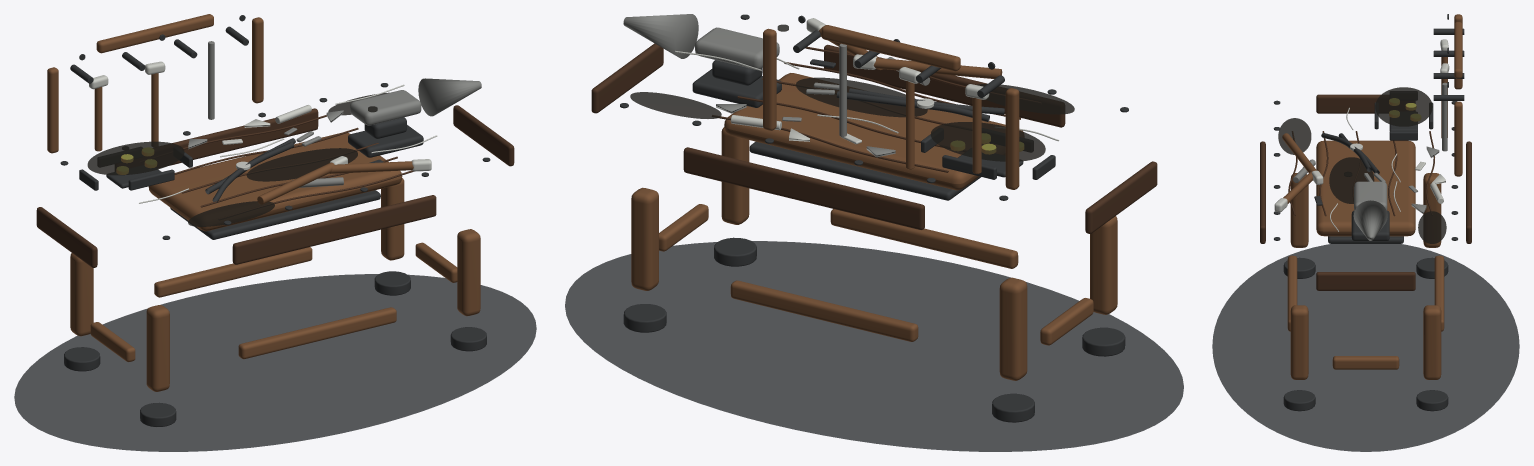
Rendered from blacksmith-forge-workbench.glb.
3 renders of one model, left to right at view 1: azimuth 30°, elevation 25°; view 2: azimuth 150°, elevation 25°; view 3: azimuth 270°, elevation 25°, orthographic. The views are drawn at different scales.
Parts seen in each view (by area): view 1: BASE_BakedSoftContactShadow, PROP_ForgeBench_Tabletop_DarkWoodSlab, PROP_ForgeBench_FrontEndgrainBand, PROP_ForgeBench_BackEndgrainBand, PROP_ForgeBench_FrontLowerRail_DarkWood, PROP_ForgeBench_BackLowerRail_DarkWood, PROP_ForgeBench_EmberTray_SootHalo, PROP_ForgeBench_Tabletop_SootSmudge_2, PROP_ForgeBench_FrontRight_ChunkyWoodLeg, PROP_ForgeBench_FrontLeft_ChunkyWoodLeg, PROP_ForgeBench_Underside_BlackIronBrace, PROP_ForgeBench_BackLeft_ChunkyWoodLeg (+25 smaller); view 2: BASE_BakedSoftContactShadow, PROP_ForgeBench_Tabletop_DarkWoodSlab, PROP_ForgeBench_BackEndgrainBand, PROP_ForgeBench_BackLowerRail_DarkWood, PROP_ForgeBench_FrontEndgrainBand, PROP_ForgeBench_FrontLowerRail_DarkWood, PROP_ForgeBench_BackLeft_ChunkyWoodLeg, PROP_ForgeBench_BackRight_ChunkyWoodLeg, PROP_ForgeBench_Underside_BlackIronBrace, PROP_ForgeBench_EmberTray_SootHalo, PROP_ForgeBench_FrontLeft_ChunkyWoodLeg, PROP_ForgeBench_HammerRack_BackBeam (+24 smaller); view 3: BASE_BakedSoftContactShadow, PROP_ForgeBench_Tabletop_DarkWoodSlab, PROP_ForgeBench_RightEndgrainBand, PROP_ForgeBench_EmberTray_SootHalo, PROP_ForgeBench_LeftEndgrainBand, PROP_ForgeBench_FrontRight_ChunkyWoodLeg, PROP_ForgeBench_BackRight_ChunkyWoodLeg, PROP_ForgeBench_Tabletop_SootSmudge_2, PROP_ForgeBench_BackLeft_ChunkyWoodLeg, PROP_ForgeBench_FrontLeft_ChunkyWoodLeg, PROP_ForgeBench_Anvil_TaperedHorn, PROP_ForgeBench_RightSideLowerRail_DarkWood (+19 smaller).
Boxes of the visible parts, x1,y1,x2,y2 form: BASE_BakedSoftContactShadow: [14, 274, 536, 451]; PROP_ForgeBench_Tabletop_DarkWoodSlab: [148, 133, 402, 231]; PROP_ForgeBench_FrontEndgrainBand: [232, 195, 436, 264]; PROP_ForgeBench_BackEndgrainBand: [115, 108, 318, 170]; PROP_ForgeBench_FrontLowerRail_DarkWood: [238, 307, 396, 359]; PROP_ForgeBench_BackLowerRail_DarkWood: [154, 247, 312, 297]; PROP_ForgeBench_EmberTray_SootHalo: [87, 141, 184, 175]; PROP_ForgeBench_Tabletop_SootSmudge_2: [246, 148, 357, 181]; PROP_ForgeBench_FrontRight_ChunkyWoodLeg: [457, 229, 480, 316]; PROP_ForgeBench_FrontLeft_ChunkyWoodLeg: [146, 305, 169, 391]; PROP_ForgeBench_Underside_BlackIronBrace: [170, 190, 380, 239]; PROP_ForgeBench_BackLeft_ChunkyWoodLeg: [70, 253, 93, 336]; BASE_BakedSoftContactShadow: [565, 241, 1183, 451]; PROP_ForgeBench_Tabletop_DarkWoodSlab: [724, 73, 1023, 190]; PROP_ForgeBench_BackEndgrainBand: [683, 147, 924, 229]; PROP_ForgeBench_BackLowerRail_DarkWood: [730, 280, 918, 341]; PROP_ForgeBench_FrontEndgrainBand: [824, 44, 1065, 127]; PROP_ForgeBench_FrontLowerRail_DarkWood: [830, 209, 1018, 268]; PROP_ForgeBench_BackLeft_ChunkyWoodLeg: [999, 277, 1027, 380]; PROP_ForgeBench_BackRight_ChunkyWoodLeg: [631, 187, 658, 290]; PROP_ForgeBench_Underside_BlackIronBrace: [749, 141, 980, 200]; PROP_ForgeBench_EmberTray_SootHalo: [930, 122, 1045, 161]; PROP_ForgeBench_FrontLeft_ChunkyWoodLeg: [1090, 216, 1117, 314]; PROP_ForgeBench_HammerRack_BackBeam: [821, 25, 960, 71]; BASE_BakedSoftContactShadow: [1212, 244, 1519, 451]; PROP_ForgeBench_Tabletop_DarkWoodSlab: [1316, 140, 1415, 236]; PROP_ForgeBench_RightEndgrainBand: [1316, 272, 1415, 290]; PROP_ForgeBench_EmberTray_SootHalo: [1375, 87, 1432, 126]; PROP_ForgeBench_LeftEndgrainBand: [1316, 94, 1414, 113]; PROP_ForgeBench_FrontRight_ChunkyWoodLeg: [1290, 305, 1308, 379]; PROP_ForgeBench_BackRight_ChunkyWoodLeg: [1423, 305, 1441, 379]; PROP_ForgeBench_Tabletop_SootSmudge_2: [1329, 157, 1374, 203]; PROP_ForgeBench_BackLeft_ChunkyWoodLeg: [1423, 173, 1441, 247]; PROP_ForgeBench_FrontLeft_ChunkyWoodLeg: [1290, 173, 1308, 247]; PROP_ForgeBench_Anvil_TaperedHorn: [1353, 200, 1387, 240]; PROP_ForgeBench_RightSideLowerRail_DarkWood: [1332, 356, 1399, 369].
Size of the model in its own units: 2.09 by 1.27 by 1.3.
